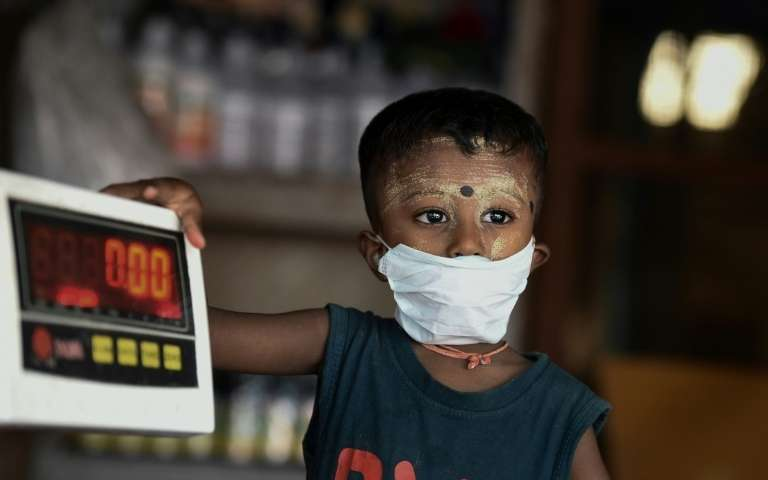with_incorrect_mask: (358, 145, 553, 353)
